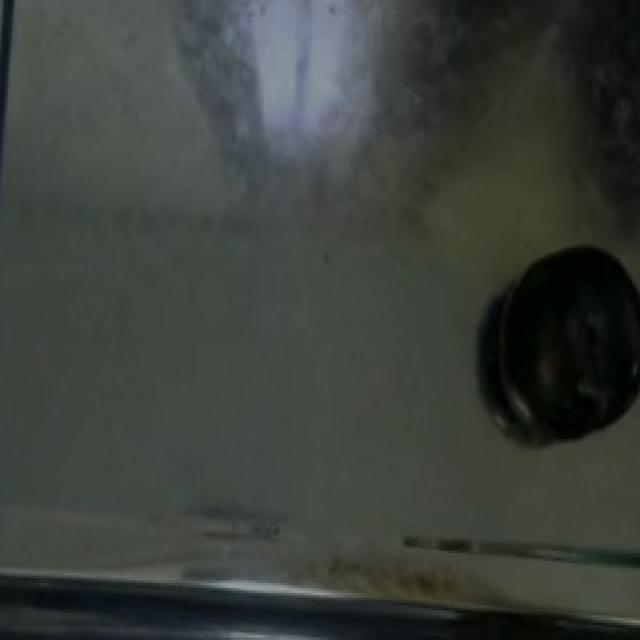Fruit: (496, 250, 640, 447)
